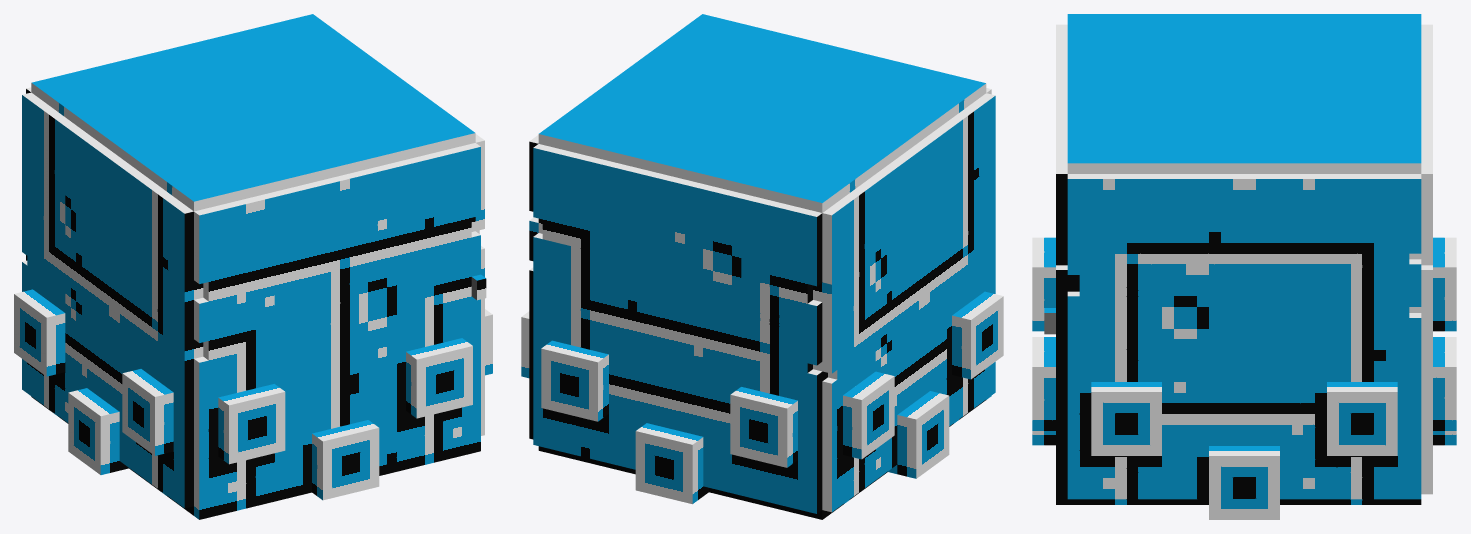
Rendered from cmy_zuhead_sao.fezao.glb.
3 renders of one model, left to right at view 1: azimuth 30°, elevation 25°; view 2: azimuth 150°, elevation 25°; view 3: azimuth 270°, elevation 25°, orthographic. The views are drawn at different scales.
Visible parts, largest first — view 1: CMY_ZUHEAD_SAO; view 2: CMY_ZUHEAD_SAO; view 3: CMY_ZUHEAD_SAO.
Part boxes in pixels (box(x1,y1,x2,y2)): CMY_ZUHEAD_SAO: box(14, 14, 492, 519); CMY_ZUHEAD_SAO: box(521, 14, 1003, 519); CMY_ZUHEAD_SAO: box(1032, 14, 1456, 519).
Size of the model in its own units: 2.25 by 2 by 2.25.
1 material, 1 textured.
